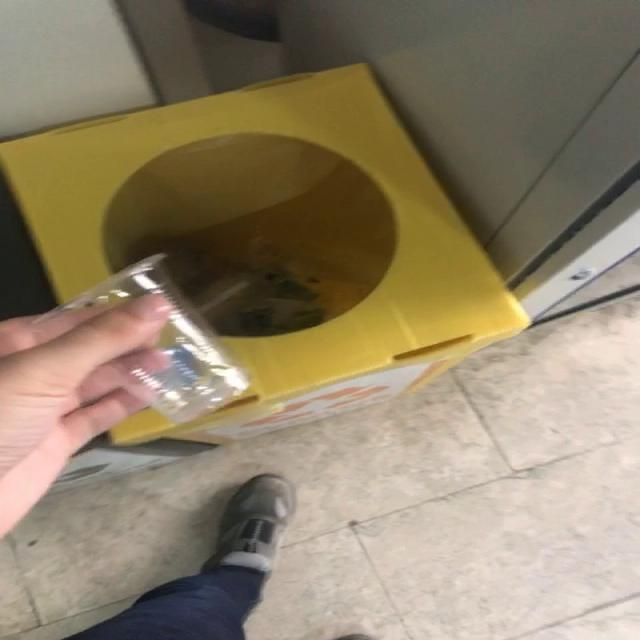plastic: (39, 254, 249, 424)
